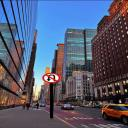NoVirarU: (41, 72, 62, 83)
